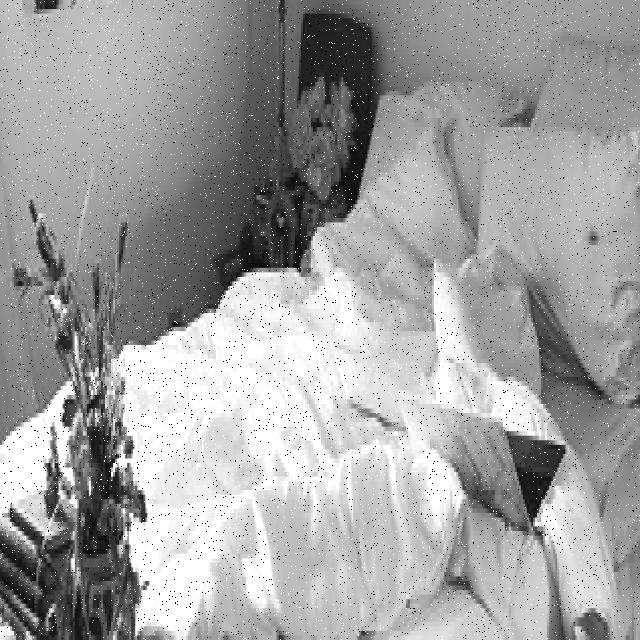bed: (68, 78, 634, 640)
